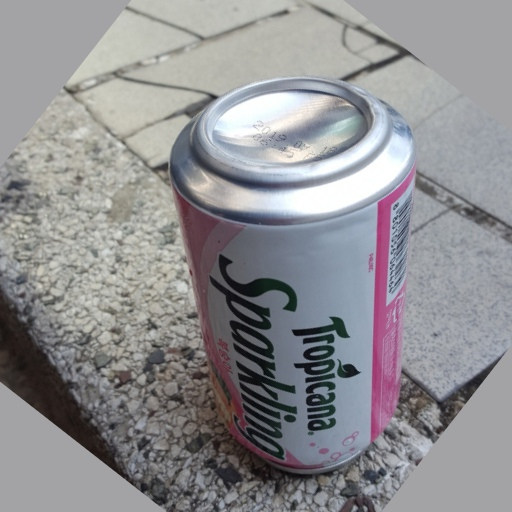Metal_0: (171, 76, 416, 480)
